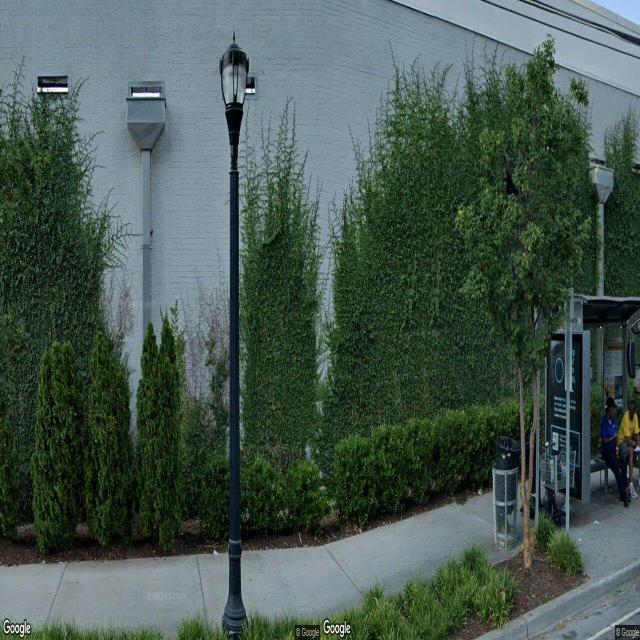seating: (595, 452, 639, 494)
shelter: (530, 295, 640, 524)
trash_can: (492, 436, 520, 552)
